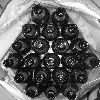beer: (33, 36, 52, 53)
